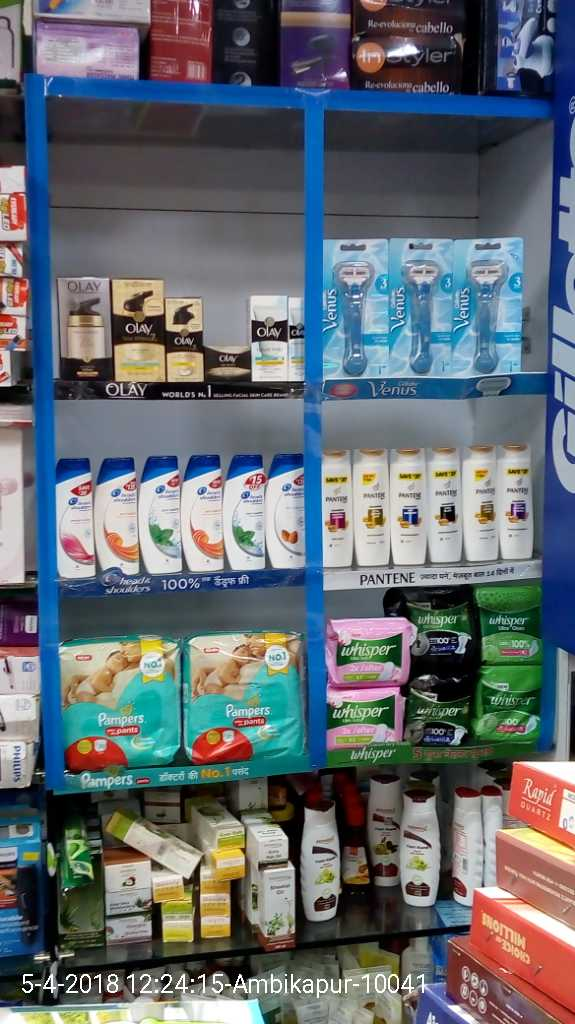venus: (454, 237, 523, 377), (388, 237, 451, 377), (325, 240, 388, 377)
